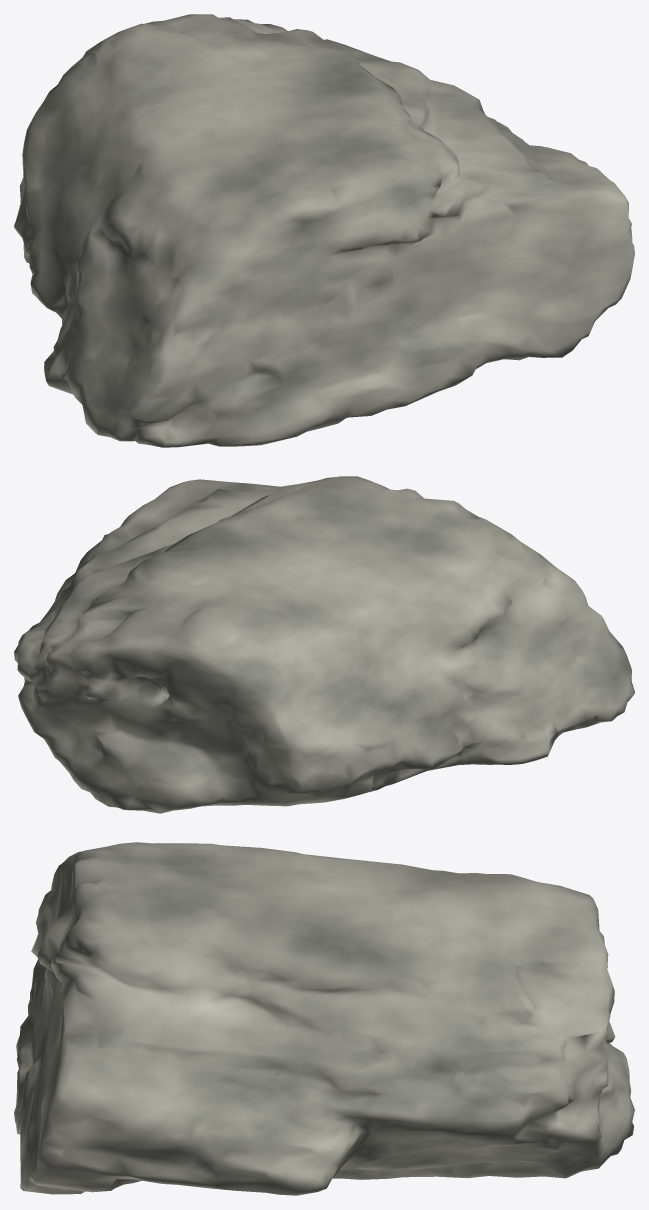
The model's file is incident-rock-0.glb.
The picture shows the model from 3 angles, top to bottom: view 1: azimuth 30°, elevation 25°; view 2: azimuth 150°, elevation 25°; view 3: azimuth 270°, elevation 25°; orthographic projection. The views are drawn at different scales.
Parts seen in each view (by area): view 1: rock-0; view 2: rock-0; view 3: rock-0.
Part boxes in pixels (left/top/right/bottom): rock-0: left=14, top=14, right=634, bottom=447; rock-0: left=14, top=476, right=634, bottom=813; rock-0: left=14, top=842, right=634, bottom=1195.
Size of the model in its own units: 2.2 by 0.8468 by 1.98.
Materials: 1 (1 with a texture image).
